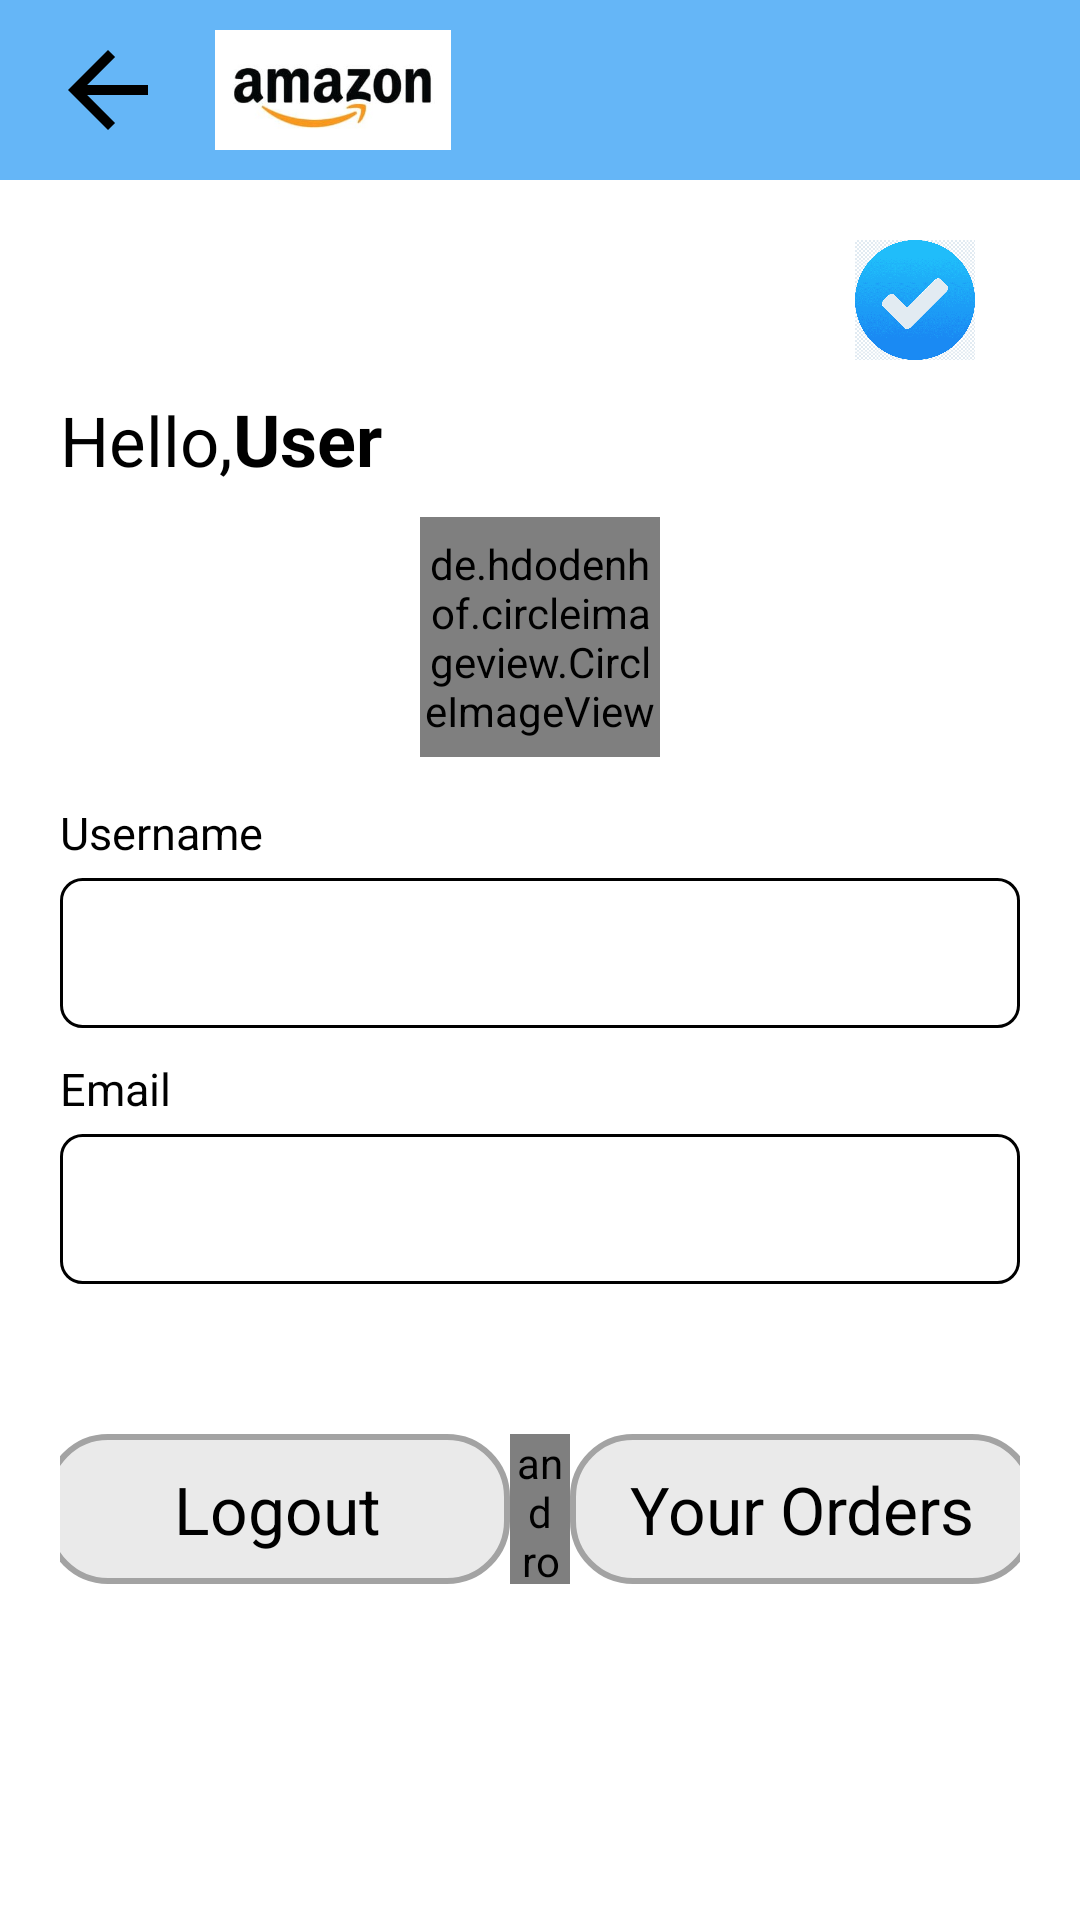

Screen size 1080*1920. Icon name, then its center in pixels as (x,y):
back: (108,90)
doneic: (915,300)
